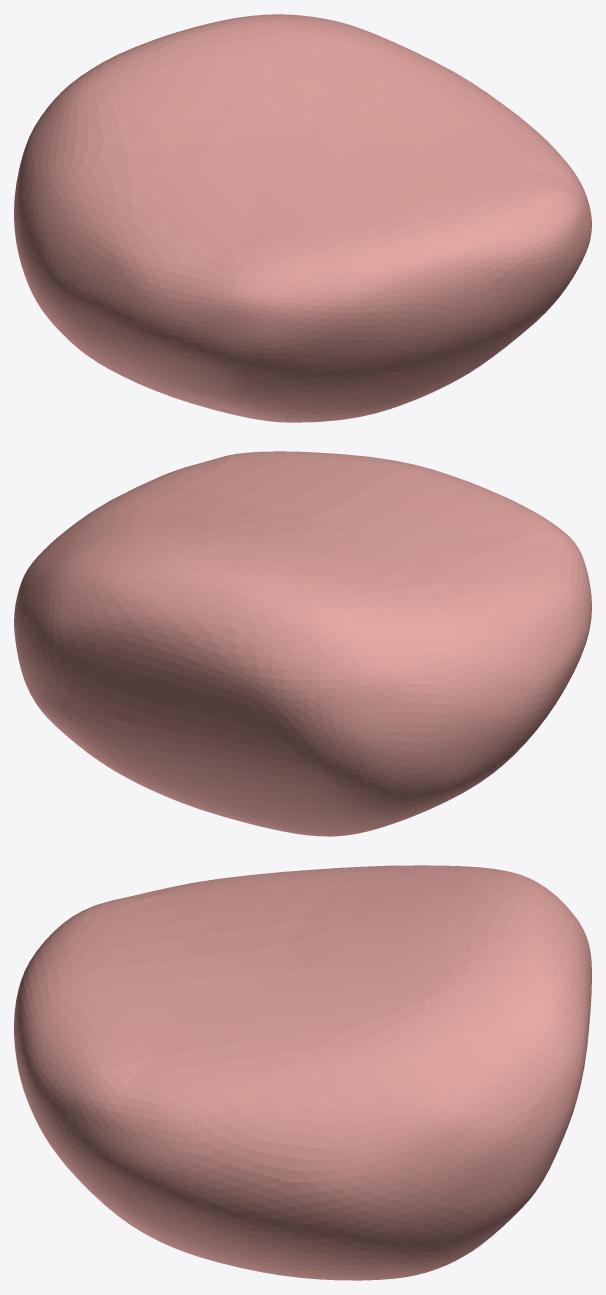
The model's file is prostata.glb.
The picture shows the model from 3 angles, top to bottom: view 1: azimuth 30°, elevation 25°; view 2: azimuth 150°, elevation 25°; view 3: azimuth 270°, elevation 25°; orthographic projection. The views are drawn at different scales.
Parts seen in each view (by area): view 1: prostate; view 2: prostate; view 3: prostate.
Boxes of the visible parts, bbox=[...] form: prostate: bbox=[14, 14, 591, 422]; prostate: bbox=[14, 451, 591, 836]; prostate: bbox=[14, 865, 591, 1280].
Size of the model in its own units: 34 by 20.21 by 31.65.
